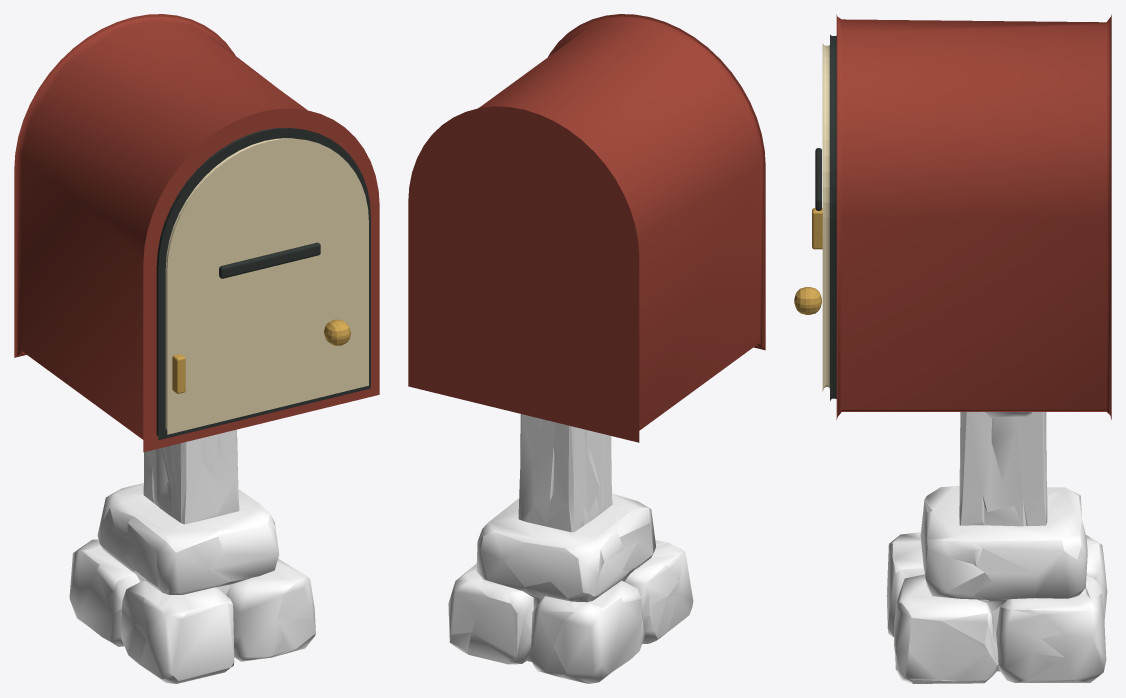
File: far.glb
The picture shows the model from 3 angles, left to right: view 1: azimuth 30°, elevation 25°; view 2: azimuth 150°, elevation 25°; view 3: azimuth 270°, elevation 25°; orthographic projection. The views are drawn at different scales.
Visible parts, largest first — view 1: mailbox-housing.001, single-ivory-door.001, island-mailbox-v1-1.004, single-front-door-seam.001, single-mail-slot.001, single-brass-knob.001; view 2: mailbox-housing.001, island-mailbox-v1-1.004; view 3: mailbox-housing.001, island-mailbox-v1-1.004, single-ivory-door.001, single-front-door-seam.001, single-brass-knob.001.
Boxes of the visible parts, x1=… form: mailbox-housing.001: x1=14, y1=14, x2=379, y2=452; single-ivory-door.001: x1=165, y1=138, x2=368, y2=434; island-mailbox-v1-1.004: x1=69, y1=429, x2=315, y2=683; single-front-door-seam.001: x1=156, y1=127, x2=370, y2=440; single-mail-slot.001: x1=219, y1=242, x2=320, y2=278; single-brass-knob.001: x1=324, y1=319, x2=350, y2=345; mailbox-housing.001: x1=408, y1=14, x2=765, y2=442; island-mailbox-v1-1.004: x1=448, y1=414, x2=693, y2=683; mailbox-housing.001: x1=836, y1=14, x2=1111, y2=419; island-mailbox-v1-1.004: x1=886, y1=412, x2=1107, y2=683; single-ivory-door.001: x1=822, y1=43, x2=829, y2=391; single-front-door-seam.001: x1=830, y1=34, x2=836, y2=401; single-brass-knob.001: x1=794, y1=287, x2=821, y2=314.
Size of the model in its own units: 0.518 by 1.21 by 0.5655.
